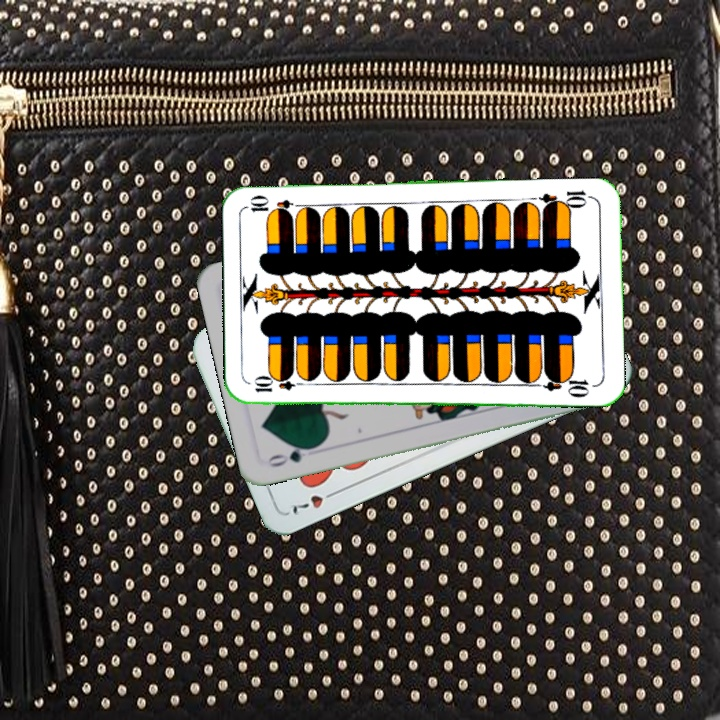E10: (537, 186, 596, 213), (251, 375, 308, 395)
GO: (262, 441, 320, 470)
H7: (285, 486, 342, 518)
